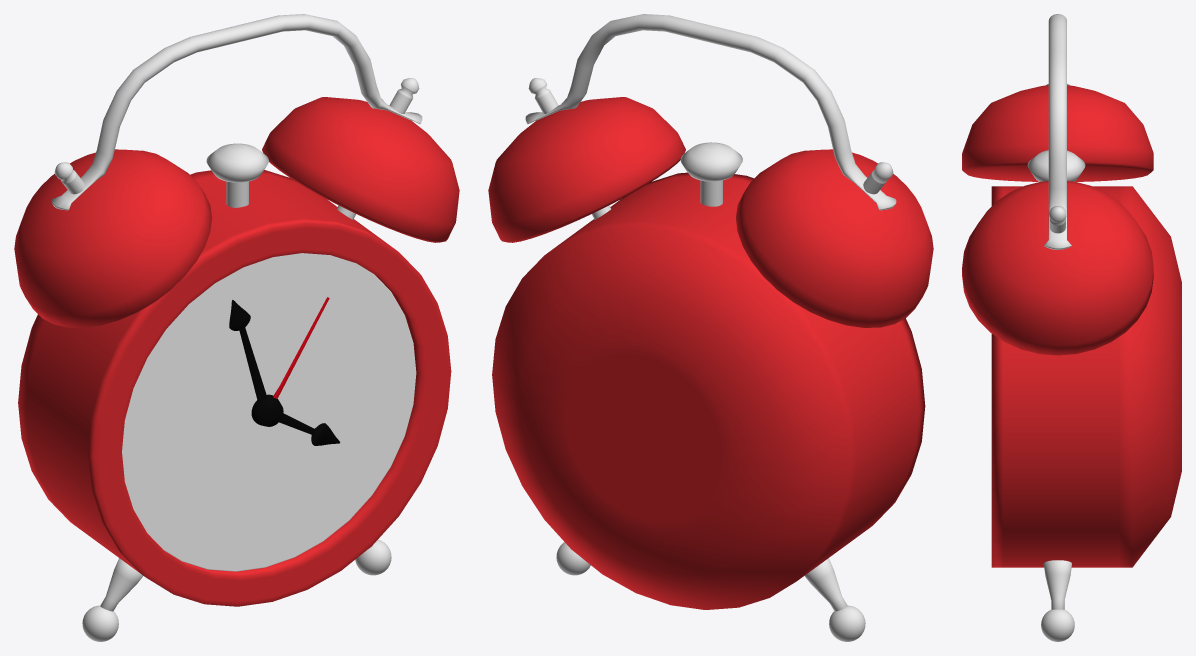
The model's file is Alarm_clock.glb.
3 renders of one model, left to right at view 1: azimuth 30°, elevation 25°; view 2: azimuth 150°, elevation 25°; view 3: azimuth 270°, elevation 25°, orthographic. The views are drawn at different scales.
Parts seen in each view (by area): view 1: Cylinder.004, Cylinder, Sphere.001, Sphere, Cylinder.002, Cube, Cylinder.001, Cube.001; view 2: Cylinder, Sphere.001, Sphere, Cylinder.002, Cylinder.001; view 3: Cylinder, Sphere.001, Sphere, Cylinder.002, Cylinder.001.
Part boxes in pixels (x1,y1,x2,y2): Cylinder.004: [122, 253, 416, 571]; Cylinder: [18, 170, 451, 606]; Sphere.001: [14, 97, 459, 327]; Sphere: [51, 14, 422, 641]; Cylinder.002: [206, 143, 268, 207]; Cube: [251, 394, 340, 445]; Cylinder.001: [54, 78, 419, 194]; Cube.001: [229, 300, 267, 403]; Cylinder: [492, 172, 925, 609]; Sphere.001: [488, 97, 933, 327]; Sphere: [525, 14, 896, 641]; Cylinder.002: [680, 142, 742, 206]; Cylinder.001: [528, 78, 893, 194]; Cylinder: [991, 186, 1181, 567]; Sphere.001: [962, 85, 1153, 355]; Sphere: [1041, 14, 1074, 641]; Cylinder.002: [1027, 150, 1085, 181]; Cylinder.001: [1049, 206, 1066, 233].
Size of the model in its own units: 0.8699 by 1.16 by 0.4285.
